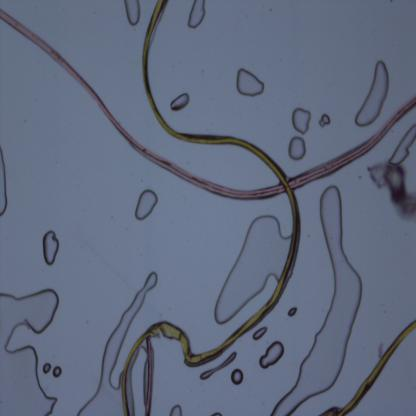Air bubble: (271, 184, 363, 415), (78, 273, 157, 415), (214, 213, 293, 325), (0, 286, 59, 415), (354, 60, 390, 128), (388, 124, 416, 165), (201, 350, 236, 382), (235, 67, 266, 97), (258, 340, 285, 369), (134, 190, 158, 221), (41, 228, 60, 266), (0, 146, 8, 221), (123, 0, 143, 29), (287, 134, 307, 162), (292, 106, 311, 134), (188, 1, 206, 29), (169, 91, 191, 112), (231, 368, 245, 386), (252, 325, 267, 341), (317, 113, 332, 128), (169, 404, 183, 416), (287, 305, 299, 318), (42, 361, 52, 375), (52, 366, 62, 379)
Background material: (368, 162, 416, 222)
Microfibre: (0, 9, 416, 202), (121, 1, 302, 415), (338, 320, 416, 416), (144, 338, 156, 415)
